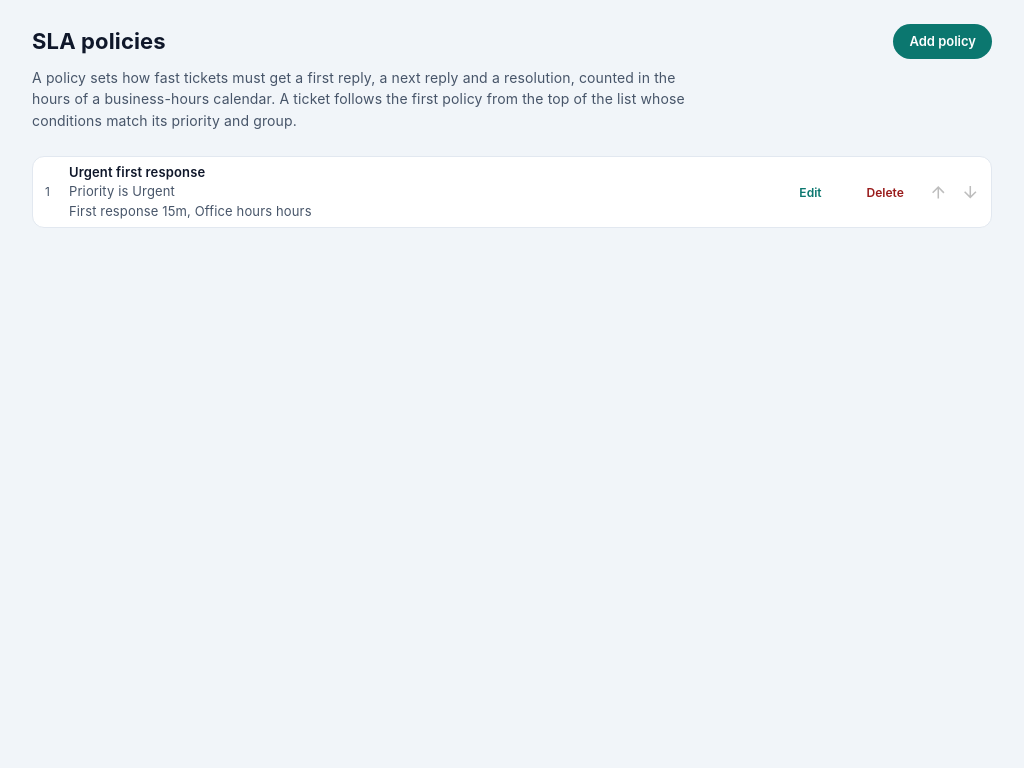
Test: SlaPoliciesPage › validates before sending: a missing name, calendar and an out-of-range warning percent block the save
Click the button "Add policy". click: (943, 41)
box: [893,24,992,59]
(page scrolled)
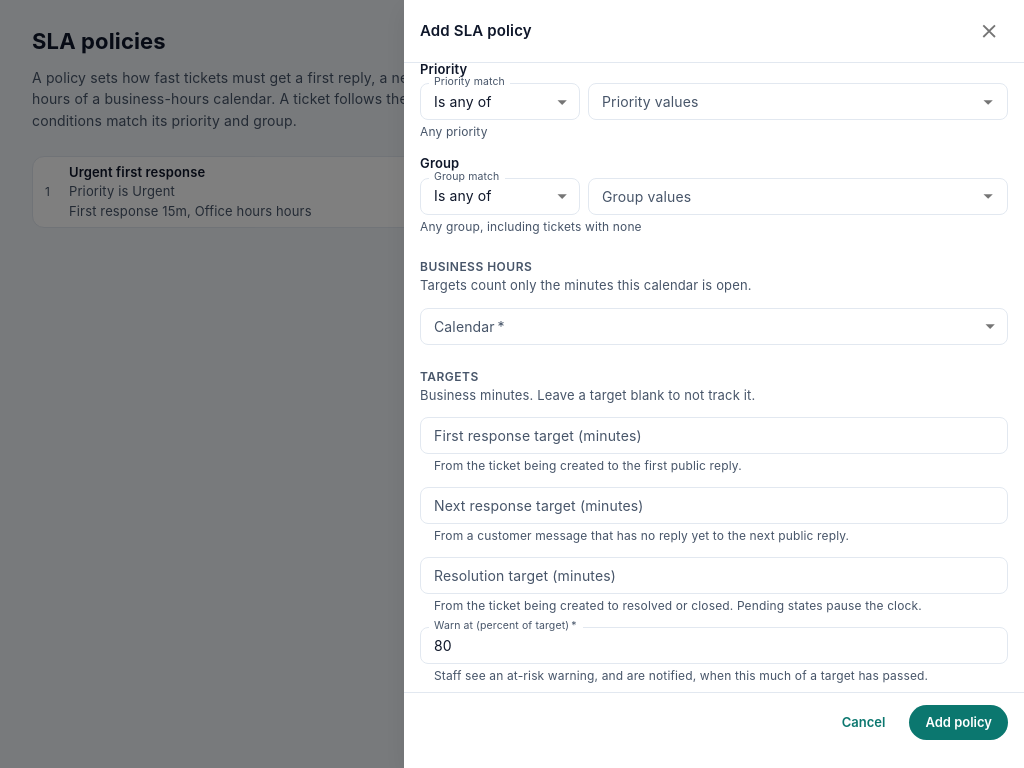
Replace the text in the number field labelled "Warn at (percent of target) *" with "120". click: (714, 645)
box: [420,627,1008,664]
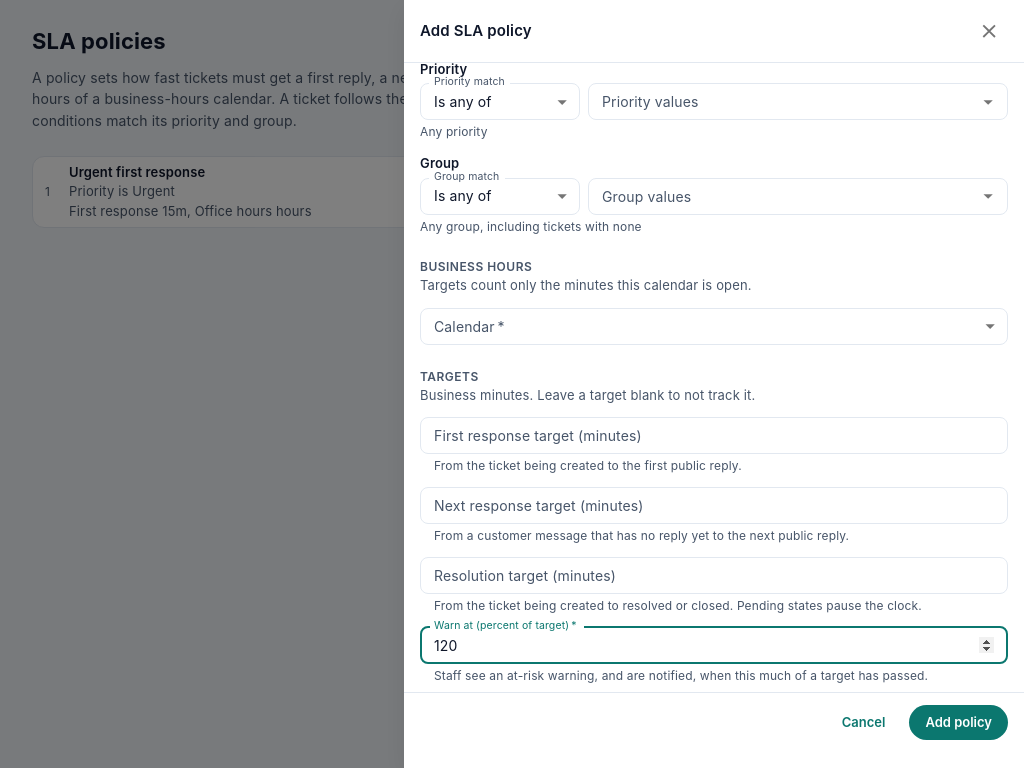
Click the button "Add policy". click: (959, 723)
box: [909,705,1008,740]
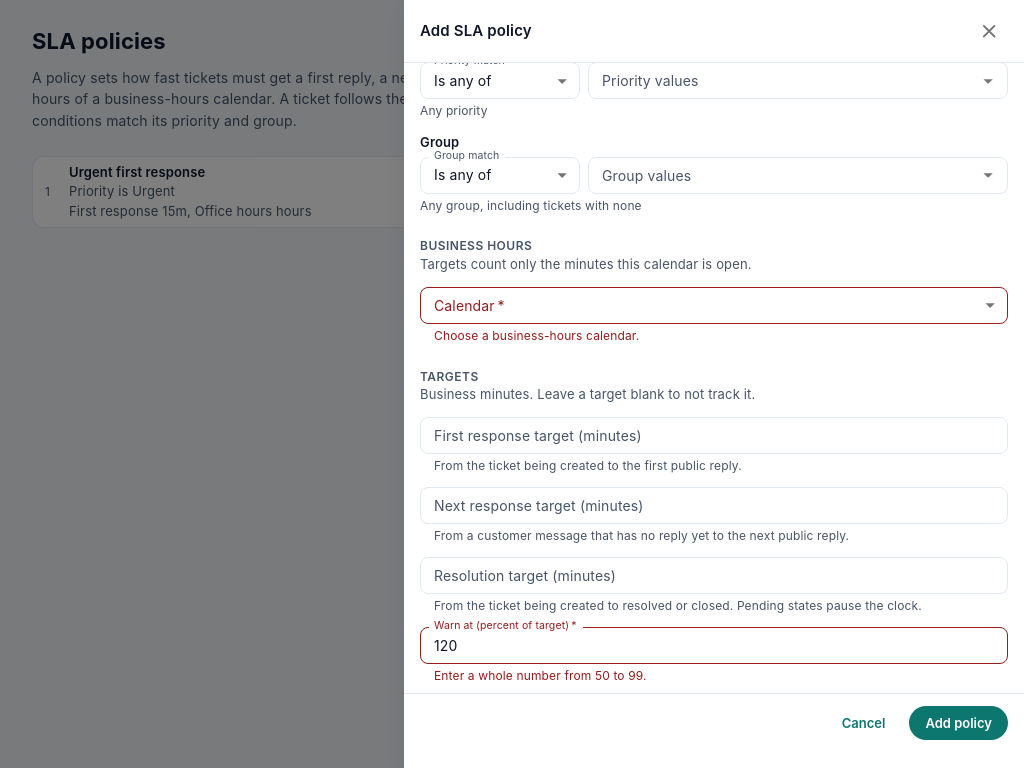
Expected: the text "Choose a business-hours calendar." is shown, [434,328,639,343]
Expected: the text "Enter a whole number from 50 to 99." is shown, [434,668,647,683]
